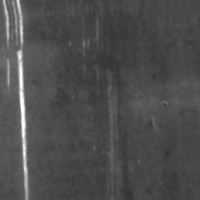scratches: (0, 17, 46, 199)
